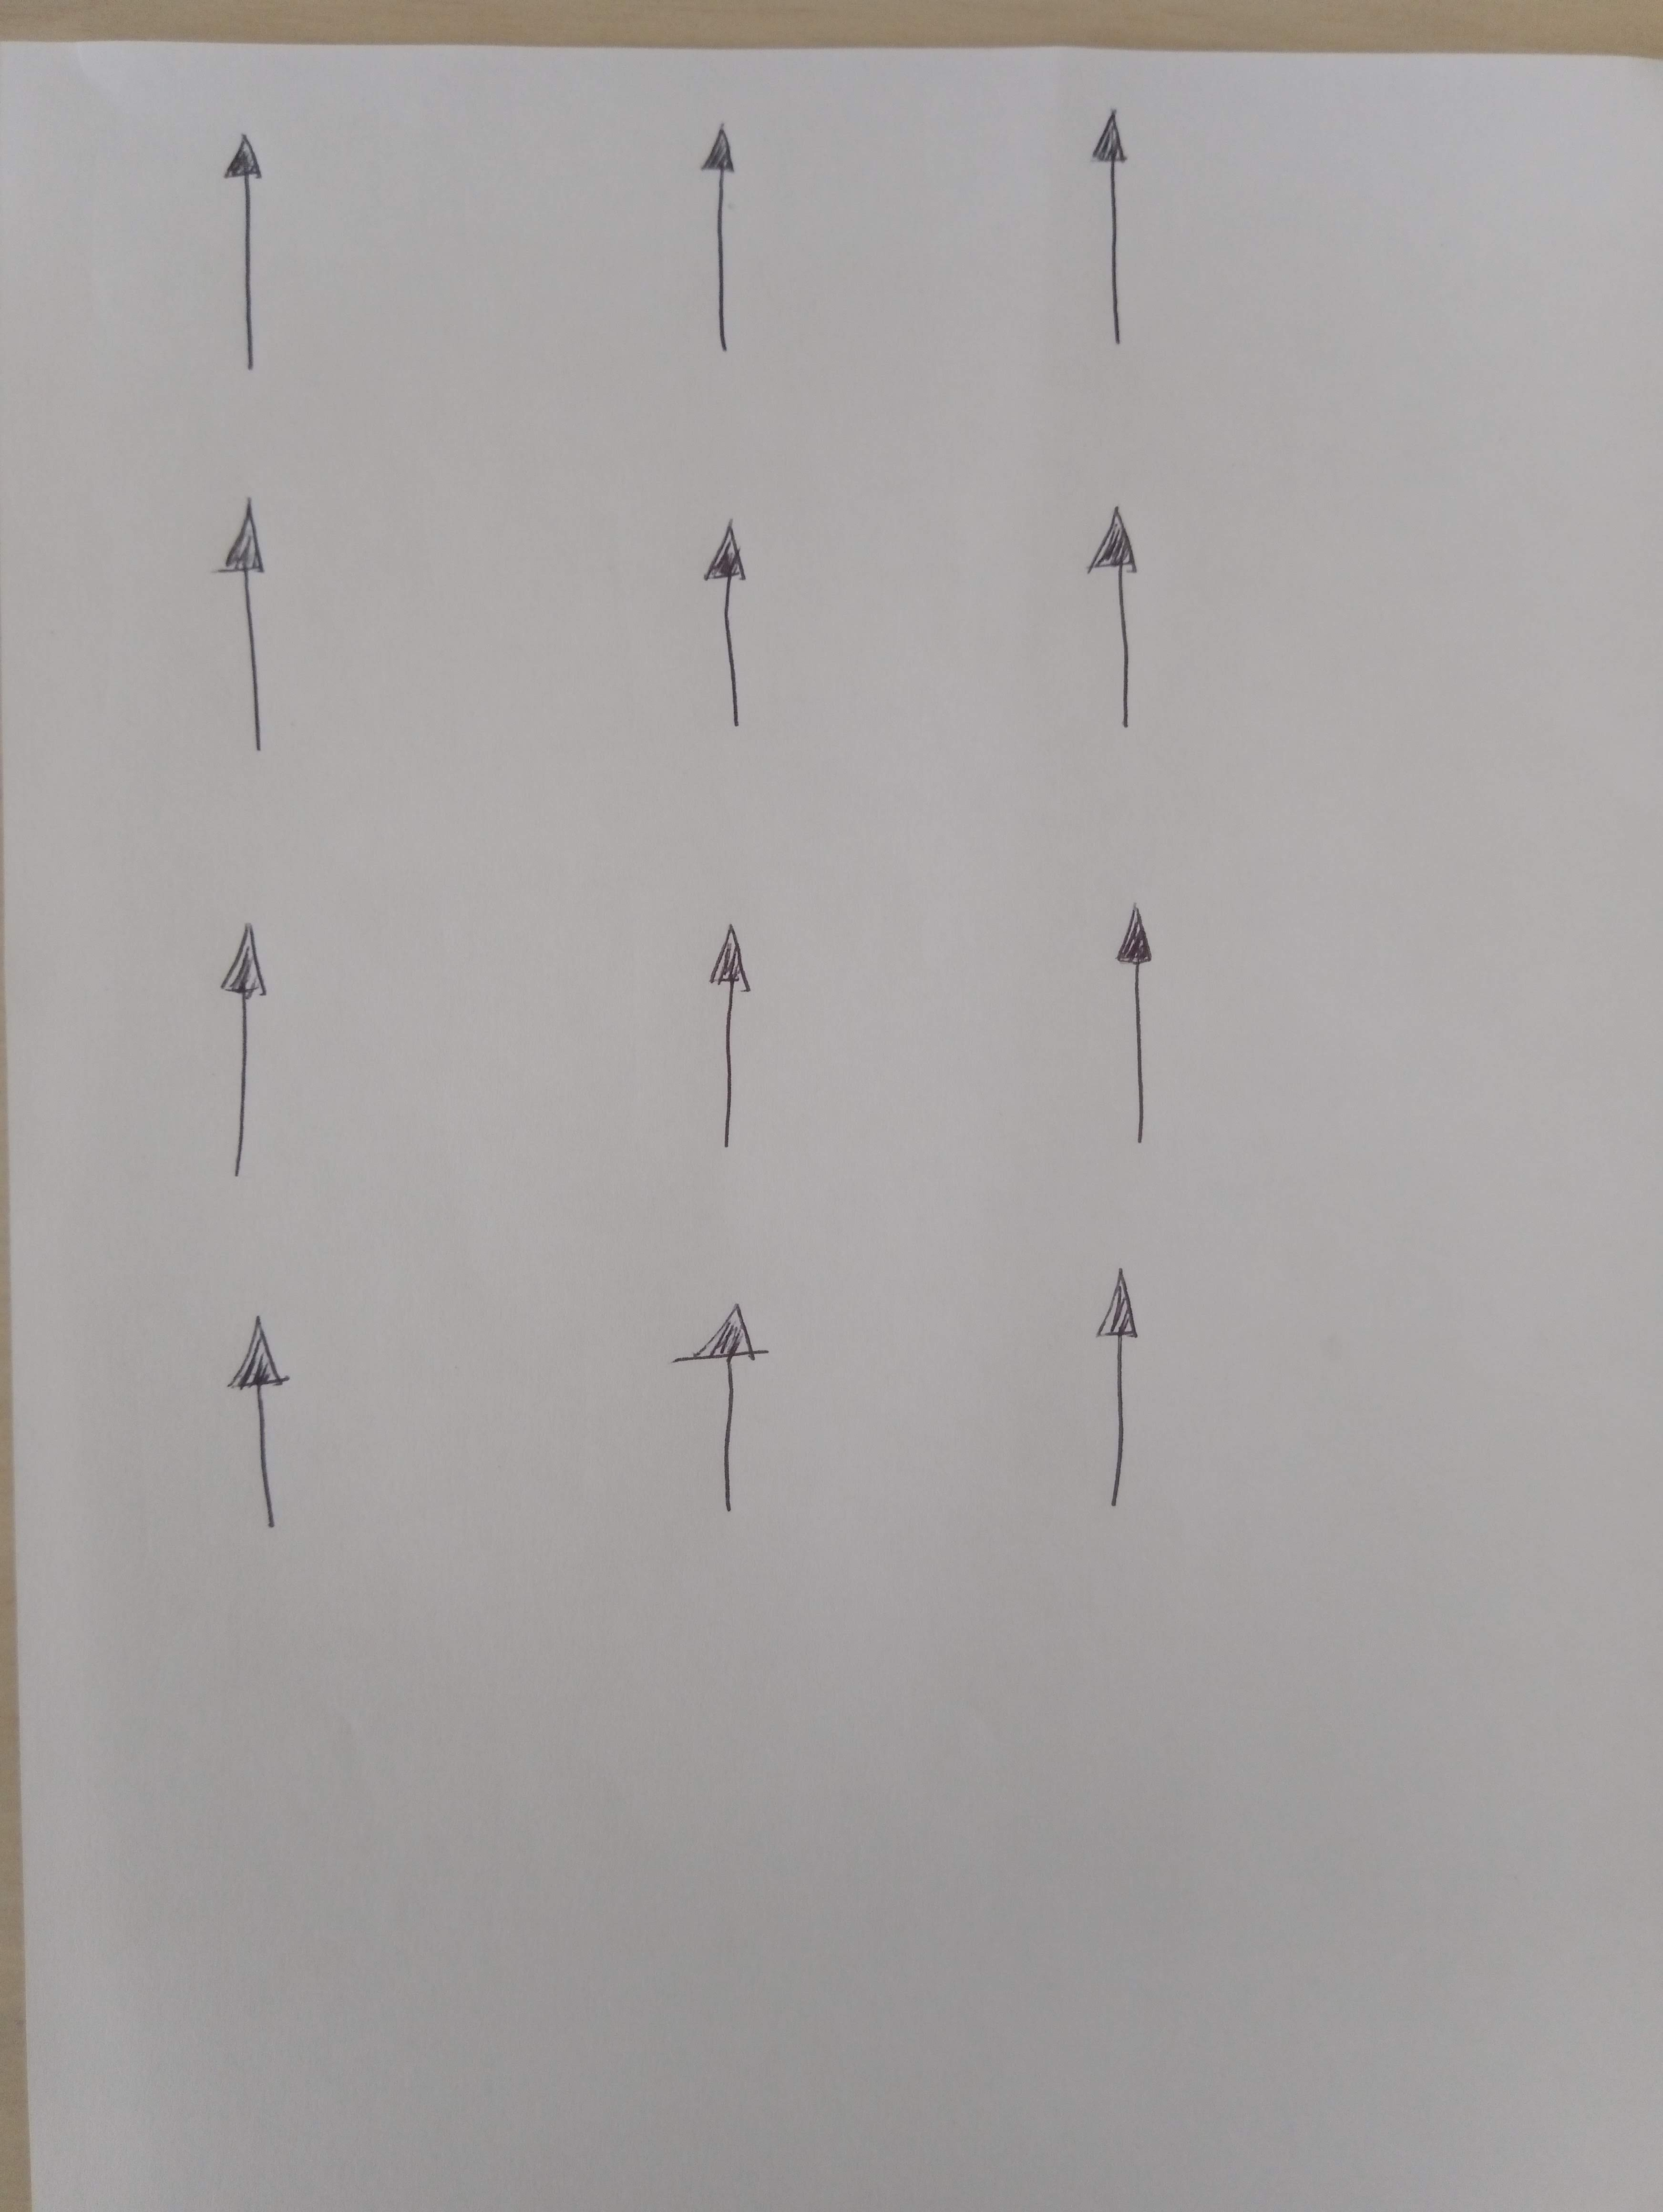arrow_line_up: (1101, 890, 1212, 1205), (685, 492, 804, 779), (189, 492, 297, 772), (204, 112, 293, 422), (1076, 1274, 1184, 1519), (673, 1306, 784, 1538), (1076, 93, 1172, 353), (695, 908, 793, 1159), (1067, 508, 1172, 740), (220, 1313, 307, 1545), (673, 112, 746, 363), (218, 887, 269, 1192)
